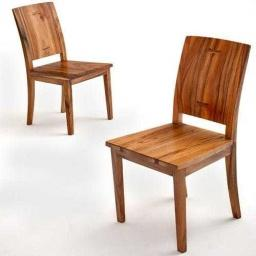Chair: (107, 37, 251, 253), (12, 2, 113, 135)
